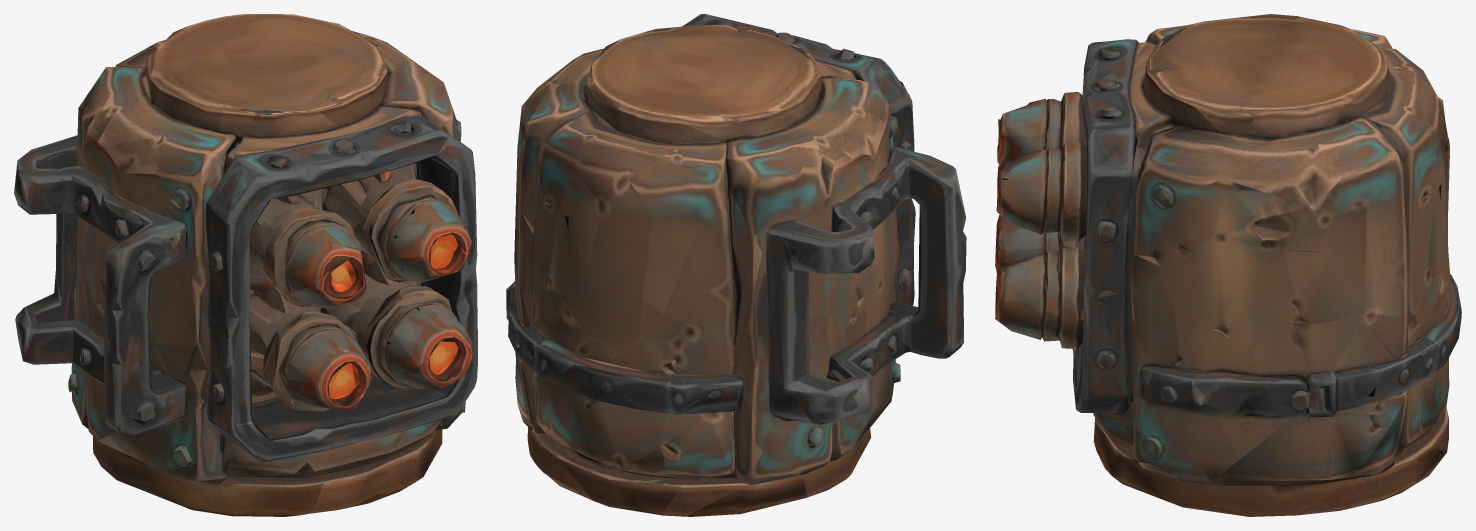
Rendered from 08_missile_rack.glb.
The picture shows the model from 3 angles, left to right: view 1: azimuth 30°, elevation 25°; view 2: azimuth 150°, elevation 25°; view 3: azimuth 270°, elevation 25°; orthographic projection. The views are drawn at different scales.
Visible parts, largest first — view 1: output_unwrapped; view 2: output_unwrapped; view 3: output_unwrapped.
Part boxes in pixels (left/top/right/bottom): output_unwrapped: left=14, top=14, right=477, bottom=516; output_unwrapped: left=506, top=14, right=966, bottom=516; output_unwrapped: left=995, top=14, right=1461, bottom=516.
Size of the model in its own units: 1.8 by 1.72 by 1.89.
1 material, 1 textured.
